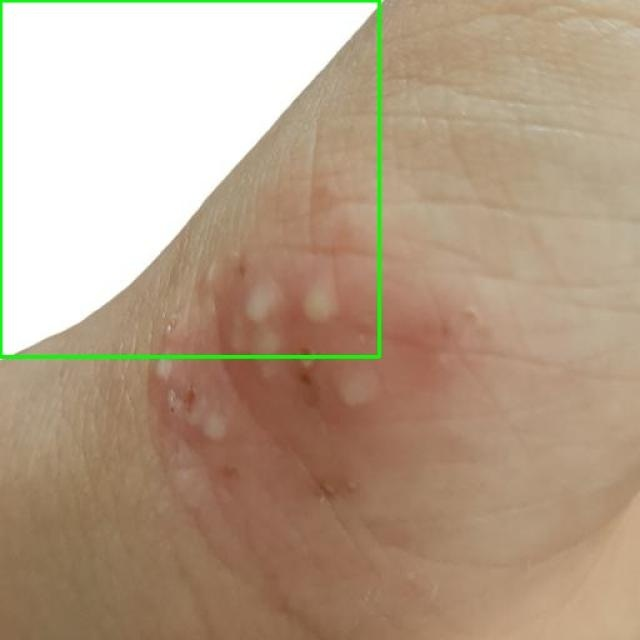Scabies: (0, 0, 379, 356)
